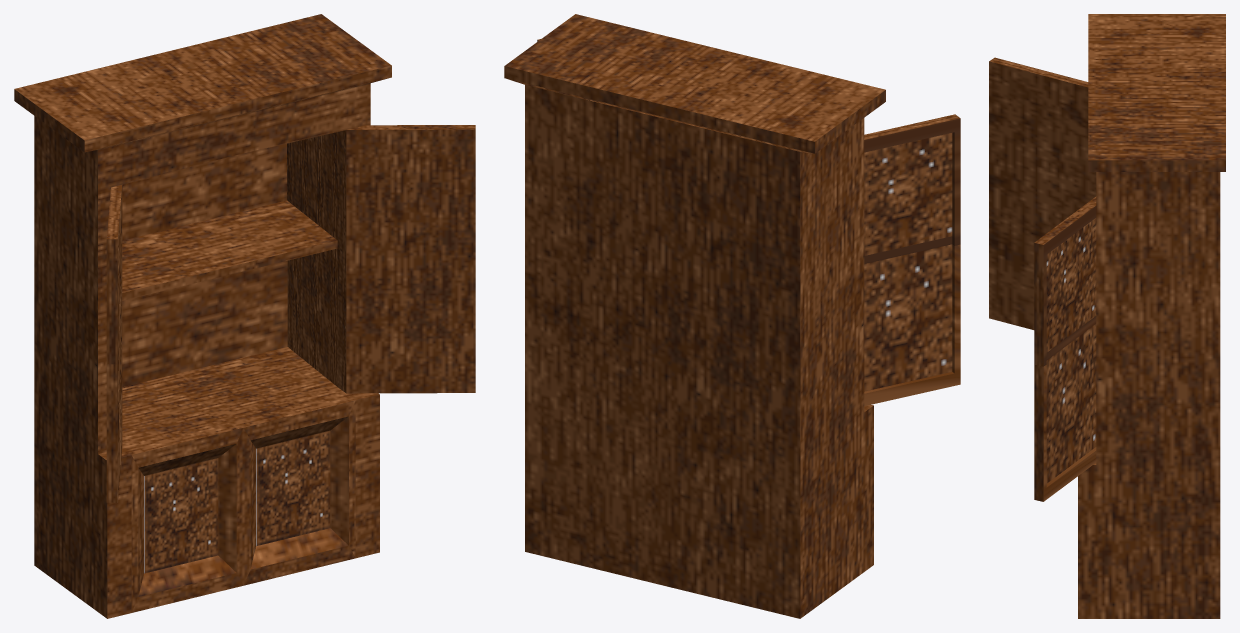
Rendered from SM_Dungeon_Cupboard_Open.fbx.
3 views of the same model, side by side, from view 1: azimuth 30°, elevation 25°; view 2: azimuth 150°, elevation 25°; view 3: azimuth 270°, elevation 25° (orthographic). The views are drawn at different scales.
Visible parts, largest first — view 1: SM_Dungeon_Cupboard_Open; view 2: SM_Dungeon_Cupboard_Open; view 3: SM_Dungeon_Cupboard_Open.
Part boxes in pixels (x1=…): SM_Dungeon_Cupboard_Open: x1=14, y1=14, x2=475, y2=618; SM_Dungeon_Cupboard_Open: x1=504, y1=14, x2=960, y2=618; SM_Dungeon_Cupboard_Open: x1=989, y1=14, x2=1225, y2=618.
Bounding box in the file's own units: 178 × 207 × 95.16.
